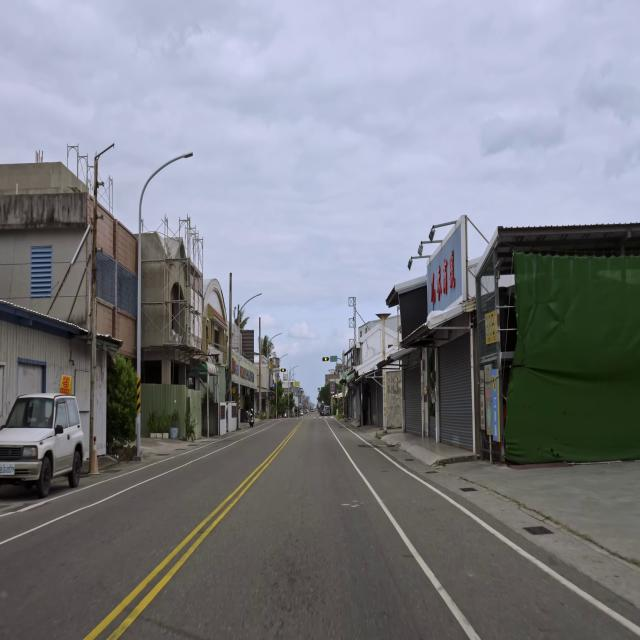yellow light: (322, 357, 329, 361), (280, 368, 286, 372)
